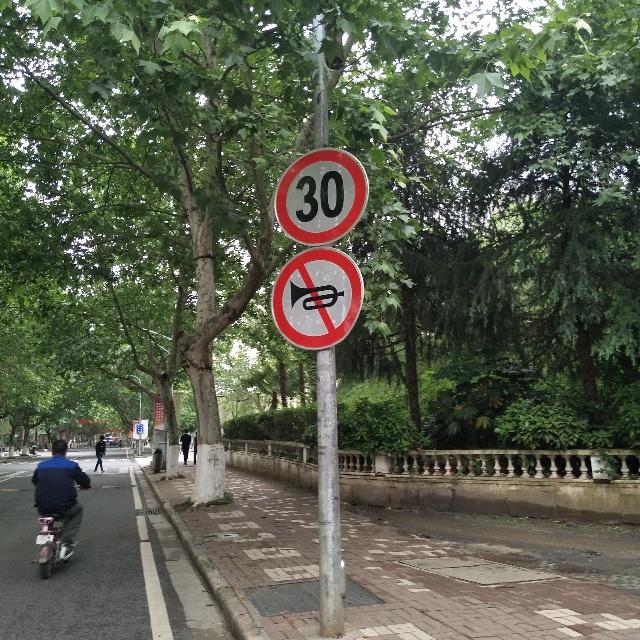nohonk: (280, 252, 345, 335)
